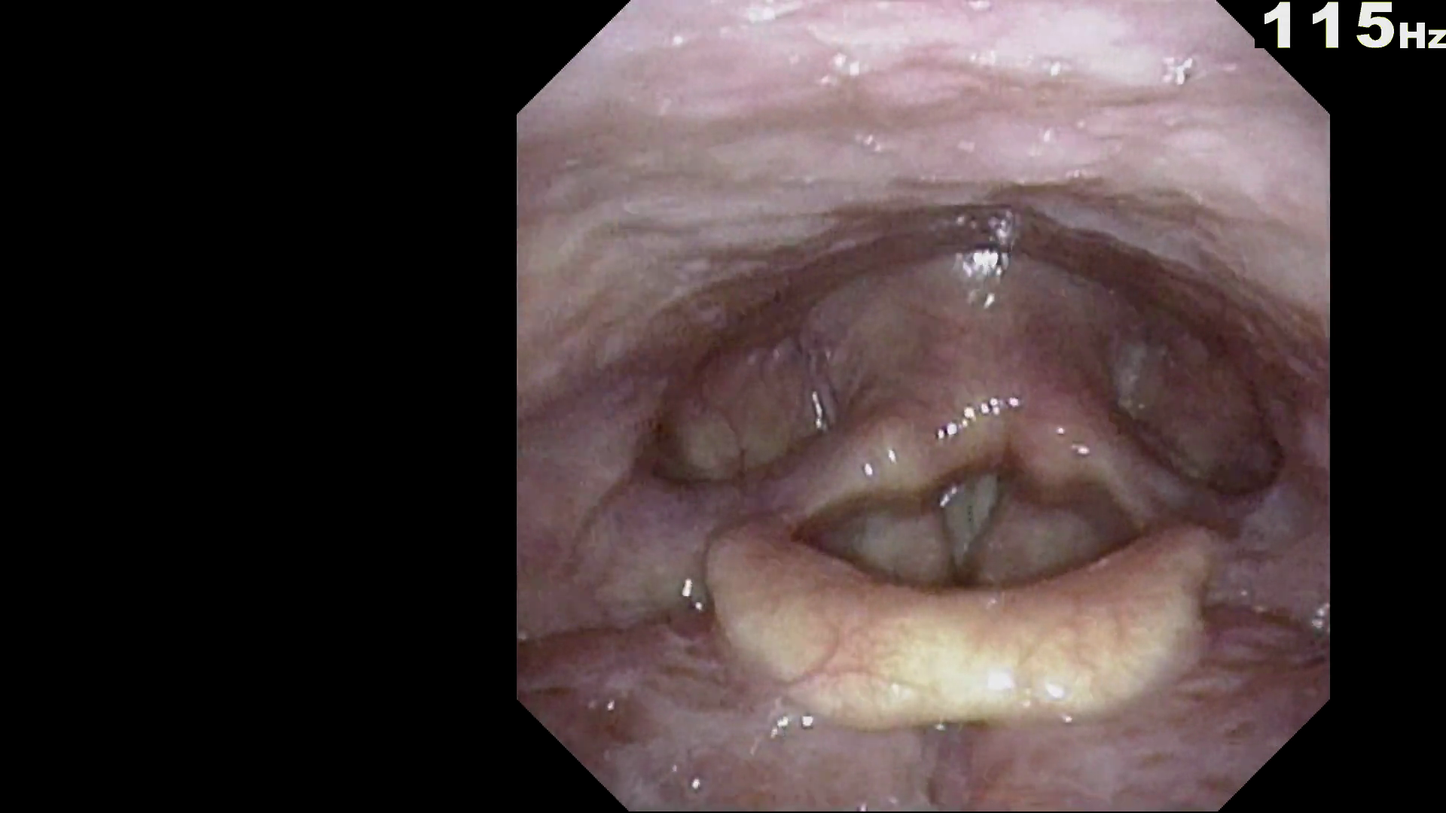epiglottis: (682, 512, 1266, 702)
trachea: (926, 449, 1033, 569)
